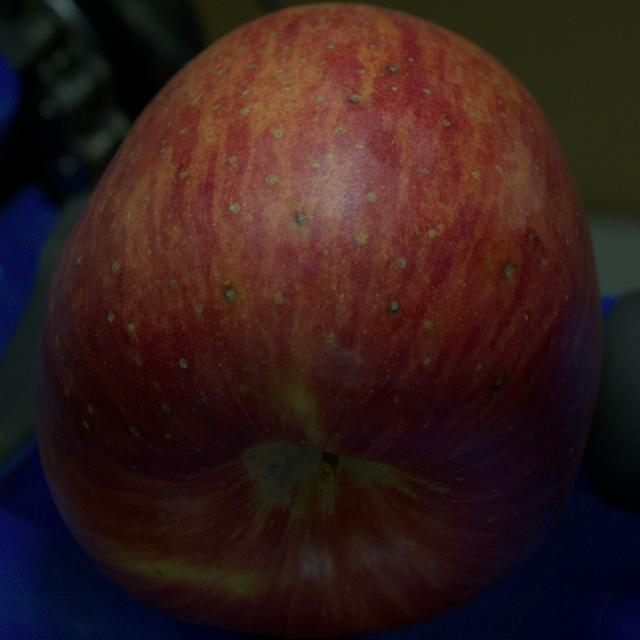apple: (36, 4, 602, 638)
pest: (223, 283, 236, 302), (388, 301, 399, 314), (504, 264, 512, 276), (386, 65, 398, 72), (351, 94, 360, 102)
